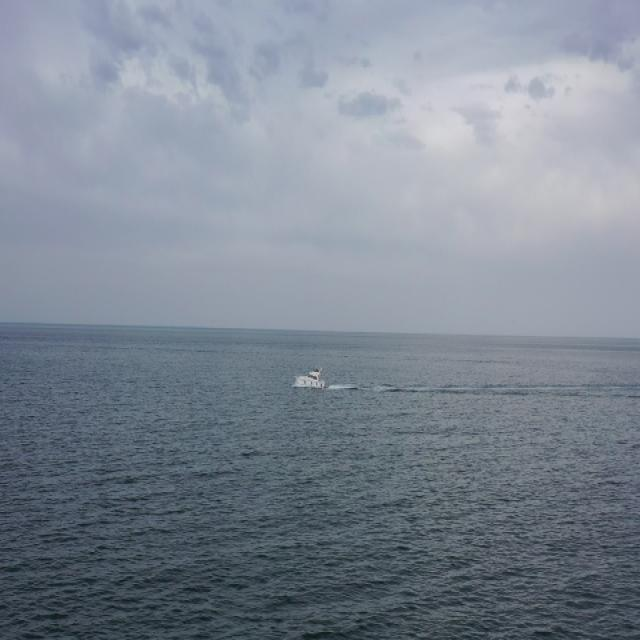houseboat: (290, 358, 328, 391)
